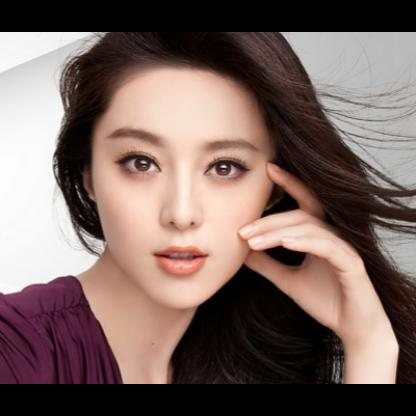Female: (84, 65, 280, 309)
